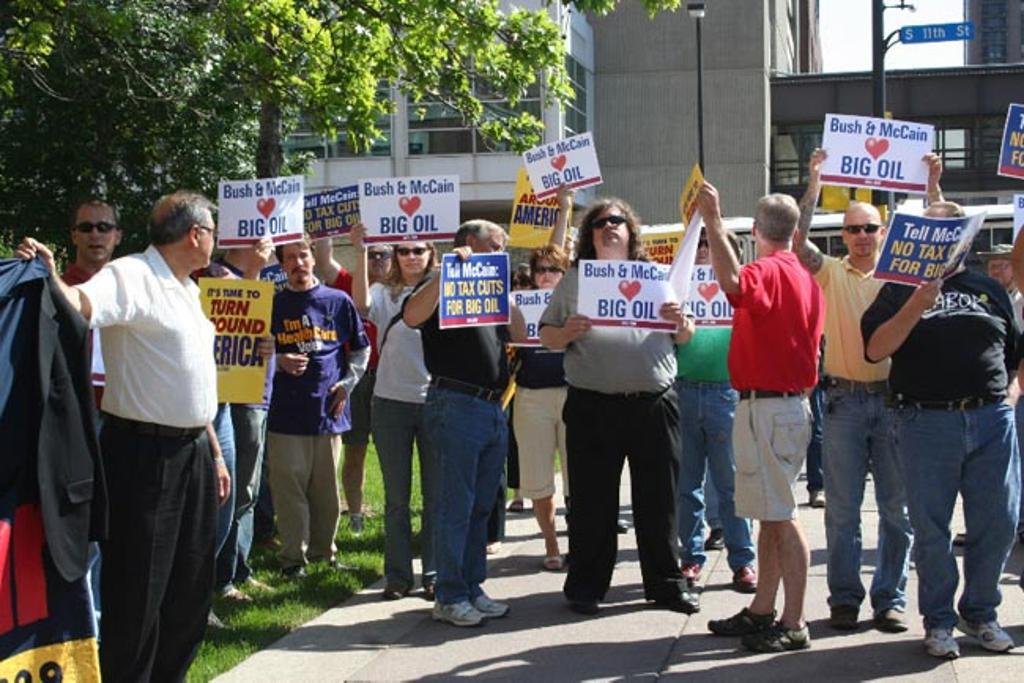face: (75, 205, 116, 261), (844, 210, 881, 255), (472, 231, 504, 283), (593, 207, 629, 251), (190, 209, 215, 267), (397, 233, 429, 273), (283, 244, 313, 284), (535, 258, 563, 291), (692, 234, 717, 269), (367, 240, 391, 276), (988, 258, 1012, 284)
